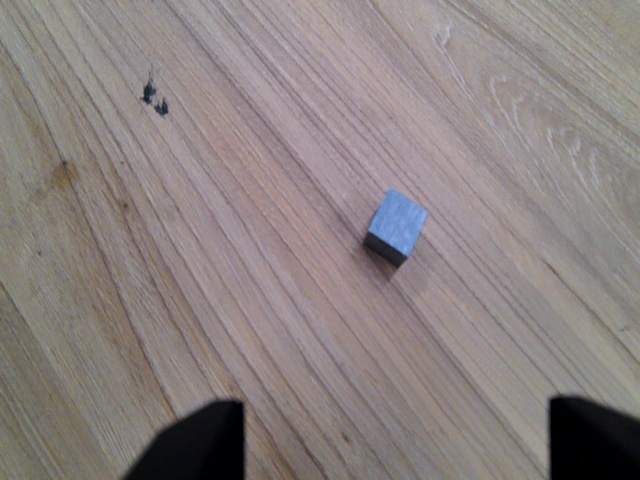stone: (362, 186, 431, 268)
